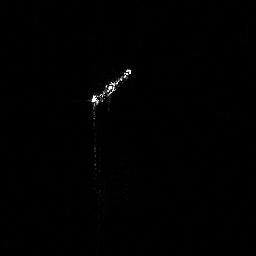ship: (91, 68, 132, 105)
